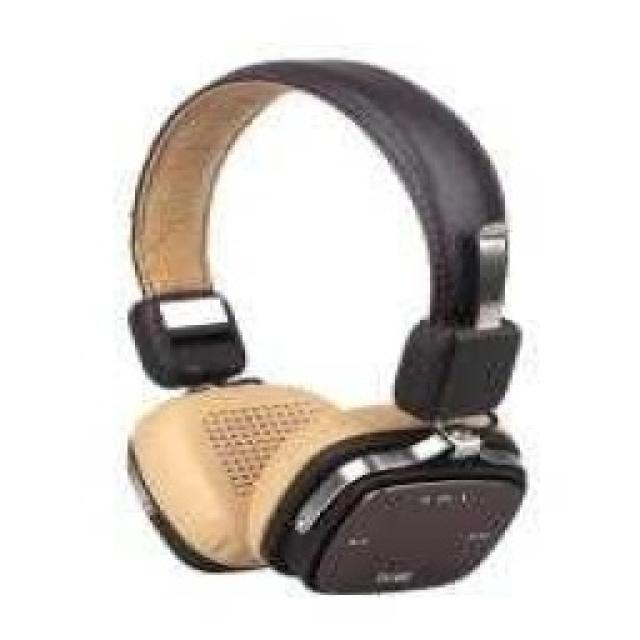headphones: (122, 55, 528, 595)
